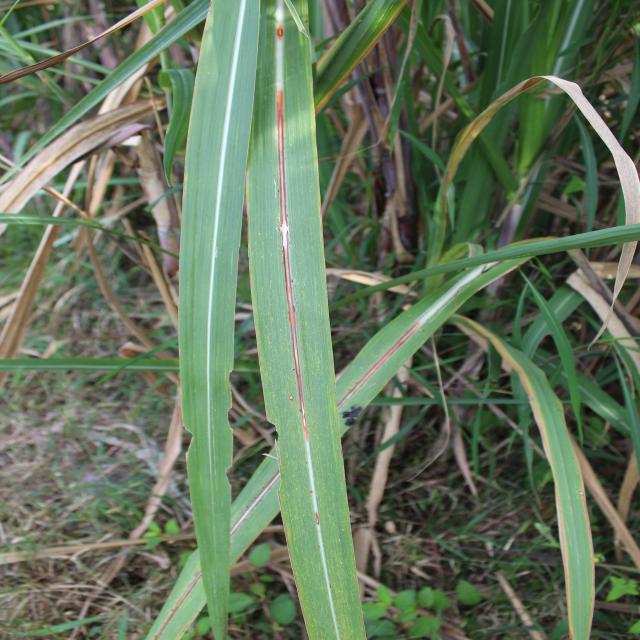Sugarcane: (211, 58, 523, 609), (266, 12, 360, 631), (177, 39, 244, 640), (5, 2, 216, 182), (481, 324, 589, 625), (424, 0, 524, 301), (243, 0, 295, 352), (334, 236, 530, 322), (336, 283, 470, 399), (510, 3, 590, 188), (312, 0, 420, 117), (412, 0, 479, 133), (0, 210, 173, 258), (436, 123, 496, 258), (390, 1, 434, 166), (222, 455, 283, 564), (362, 389, 436, 478), (565, 359, 634, 439), (546, 2, 601, 99), (567, 104, 602, 248), (159, 67, 195, 185), (615, 27, 640, 181), (0, 3, 40, 80), (25, 62, 107, 88), (0, 213, 106, 233)
